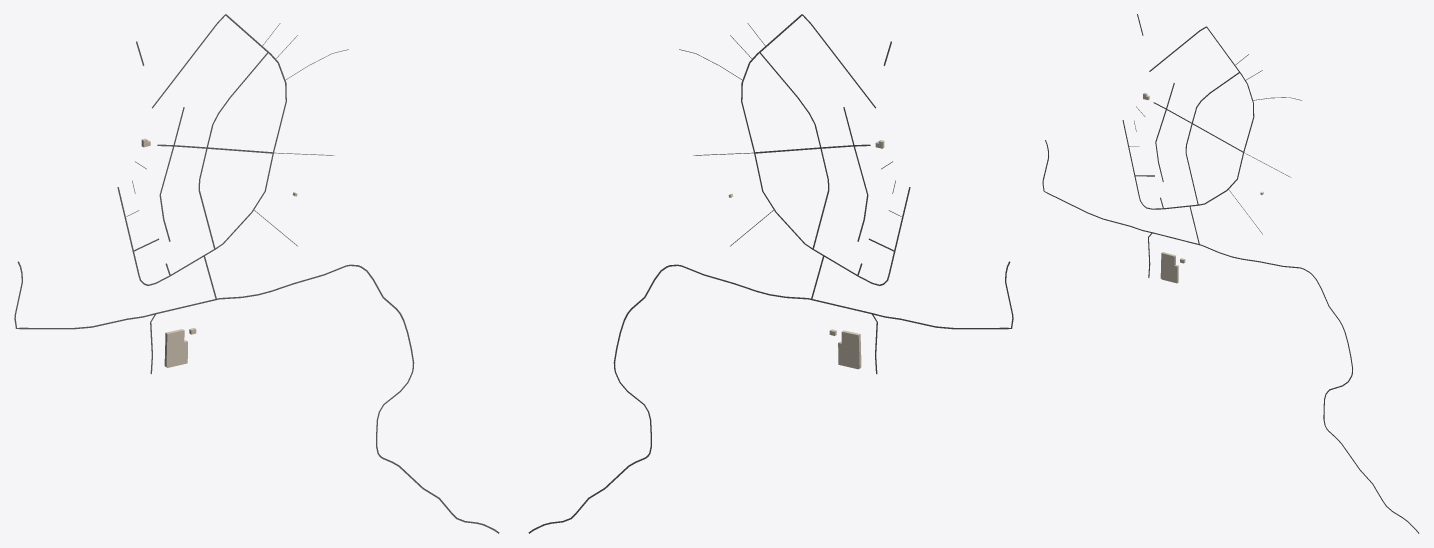
File: historic-palestine-11_14_3530_3080.glb
The picture shows the model from 3 angles, left to right: view 1: azimuth 30°, elevation 25°; view 2: azimuth 150°, elevation 25°; view 3: azimuth 330°, elevation 25°; orthographic projection. The views are drawn at different scales.
Parts seen in each view (by area): view 1: Road .010, Road .003, Building_.001; view 2: Road .010, Road .003; view 3: Road .010, Road .003, Building_.
Boxes of the visible parts, x1,y1,x2,y2 form: Road .010: [14, 261, 499, 533]; Road .003: [138, 14, 286, 285]; Building_.001: [164, 329, 185, 367]; Road .010: [528, 261, 1013, 533]; Road .003: [741, 14, 889, 285]; Road .010: [1042, 140, 1419, 533]; Road .003: [1139, 27, 1254, 209]; Building_: [1161, 253, 1178, 283].
Bounding box in the file's own units: 1117 × 1290 × 8.7.
